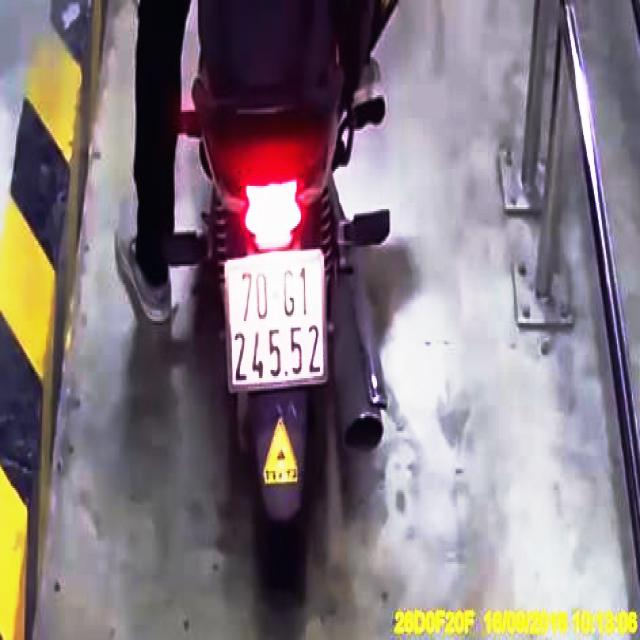license_plate: (222, 249, 330, 394)
